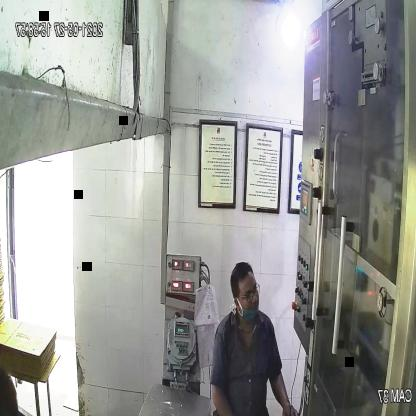goggles: (231, 278, 265, 304)
